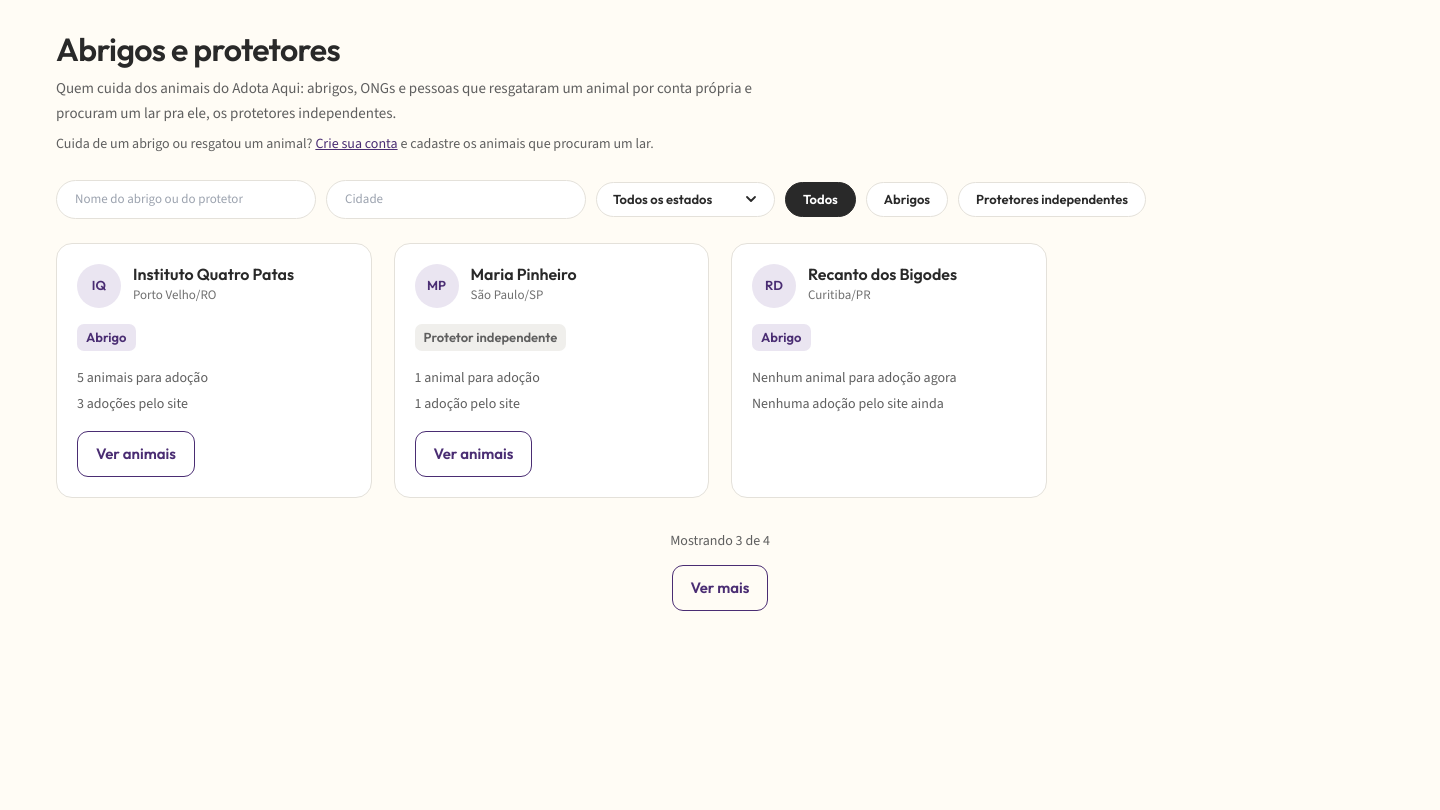
o Ver mais traz a próxima página e leva o foco pro primeiro card novo
Check: the text "Mostrando 3 de 4" is shown, box top-left (670, 530), bottom-right (770, 553)
Click the button "Ver mais" at (720, 588), box top-left (672, 565), bottom-right (768, 611)
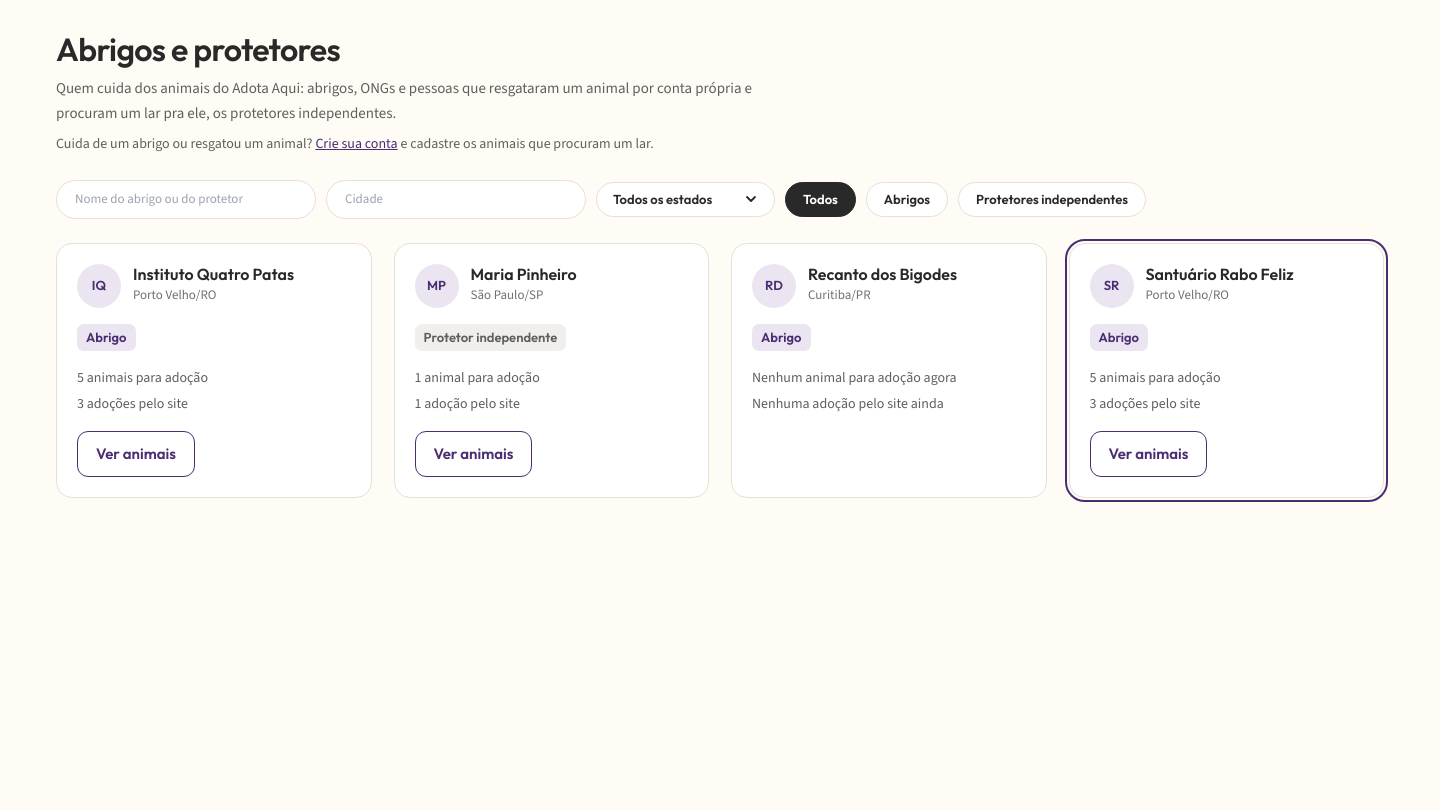
Check: the button "Ver mais" is gone
